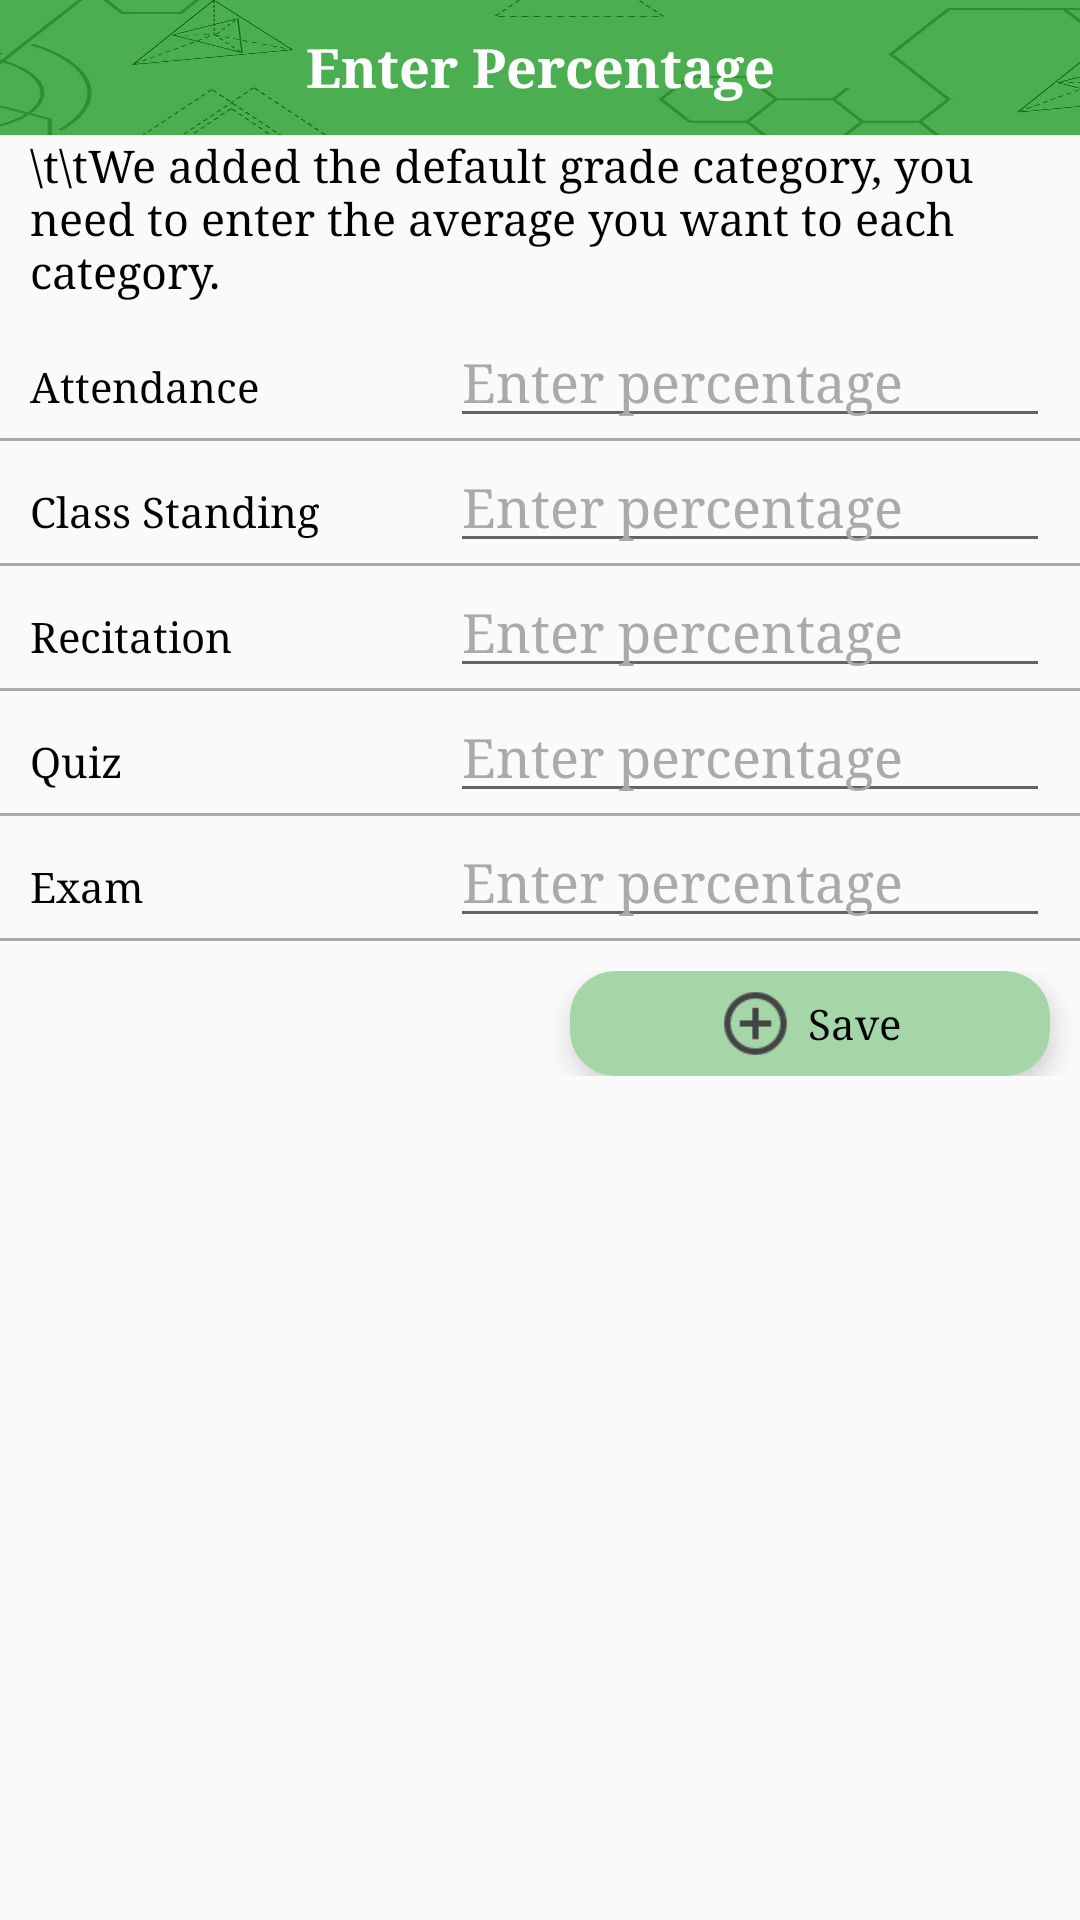

Screen size 1080 × 1920. Icon name, then its box in pixels as (x1, y1, x2, y2):
plus circle: (724, 992, 787, 1055)
